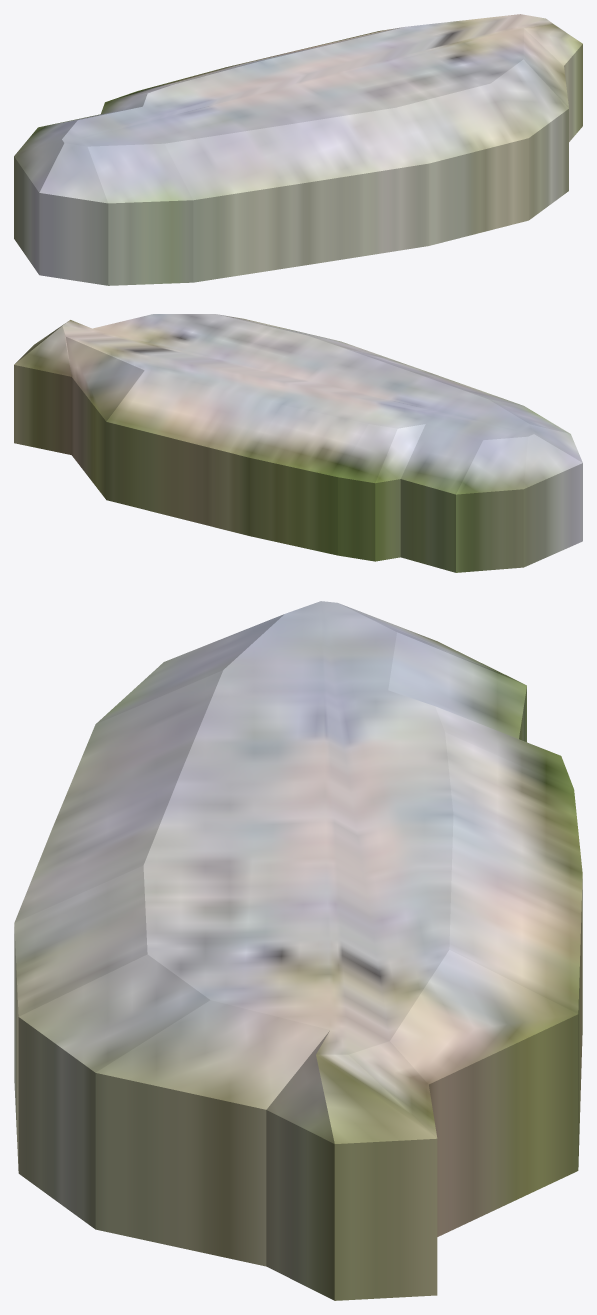
Rendered from stone.28.fbx.
The picture shows the model from 3 angles, top to bottom: view 1: azimuth 30°, elevation 25°; view 2: azimuth 150°, elevation 25°; view 3: azimuth 270°, elevation 25°; orthographic projection. The views are drawn at different scales.
Parts seen in each view (by area): view 1: stone.28; view 2: stone.28; view 3: stone.28.
Boxes of the visible parts, x1,y1,x2,y2 form: stone.28: (14,14,582,285); stone.28: (14,314,582,572); stone.28: (14,601,582,1300).
Size of the model in its own units: 50.46 by 9.74 by 23.3.
1 material, 1 textured.
